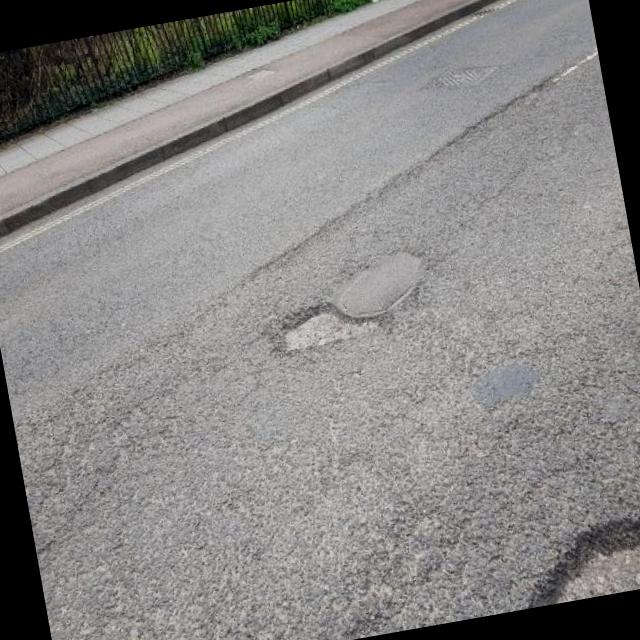pothole: (510, 496, 640, 606), (266, 284, 391, 358)
